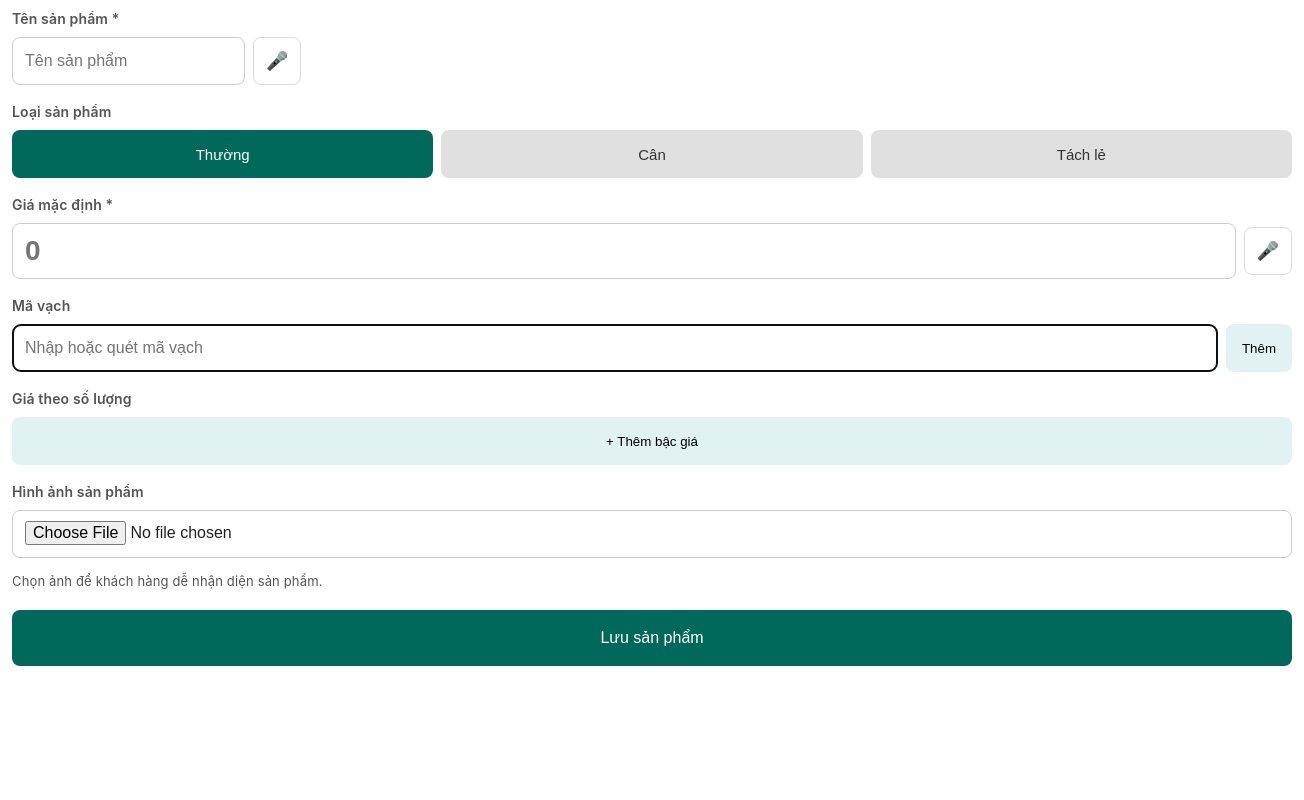
Test: ProductForm › shows error when name is empty
Step 1. Click the button "Lưu sản phẩm" → [652, 638], box [12,610,1292,666]
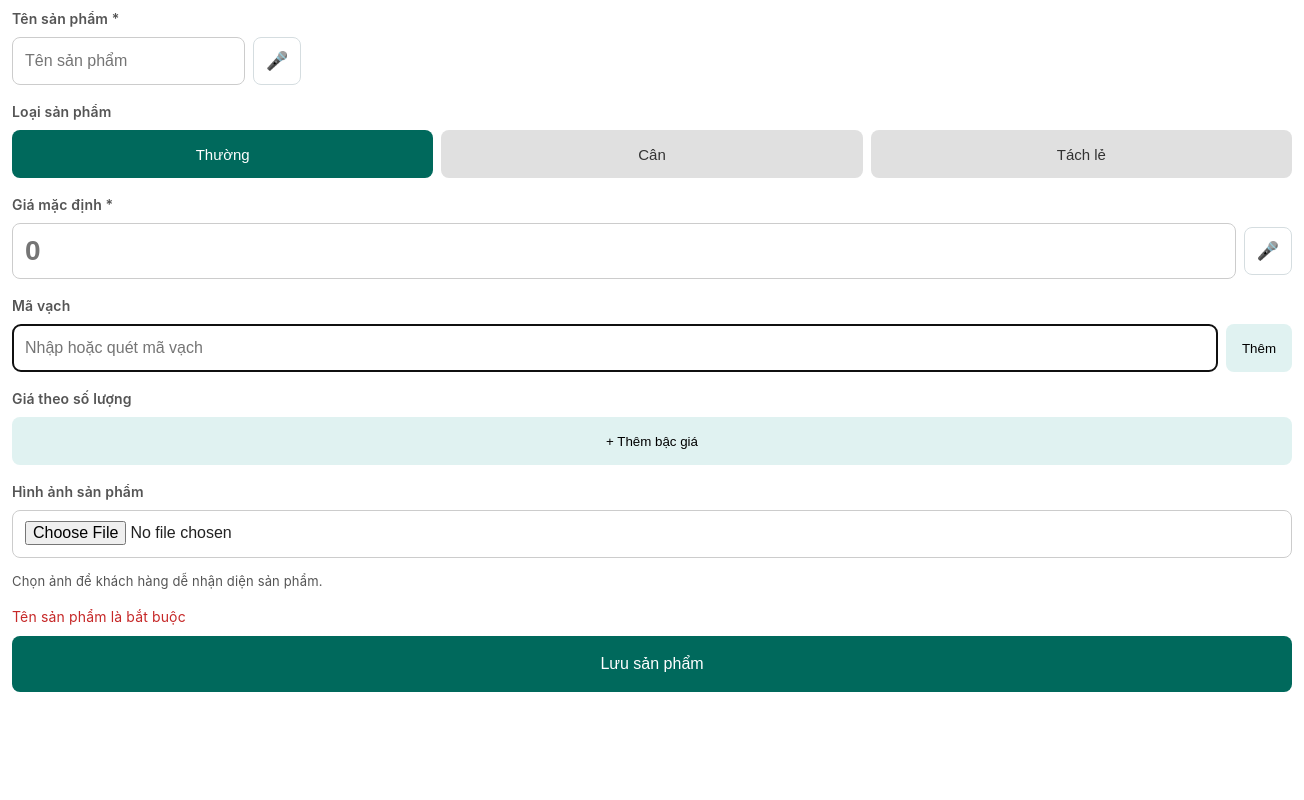
Check: the message reads "Tên sản phẩm là bắt buộc", box [12,608,186,624]
